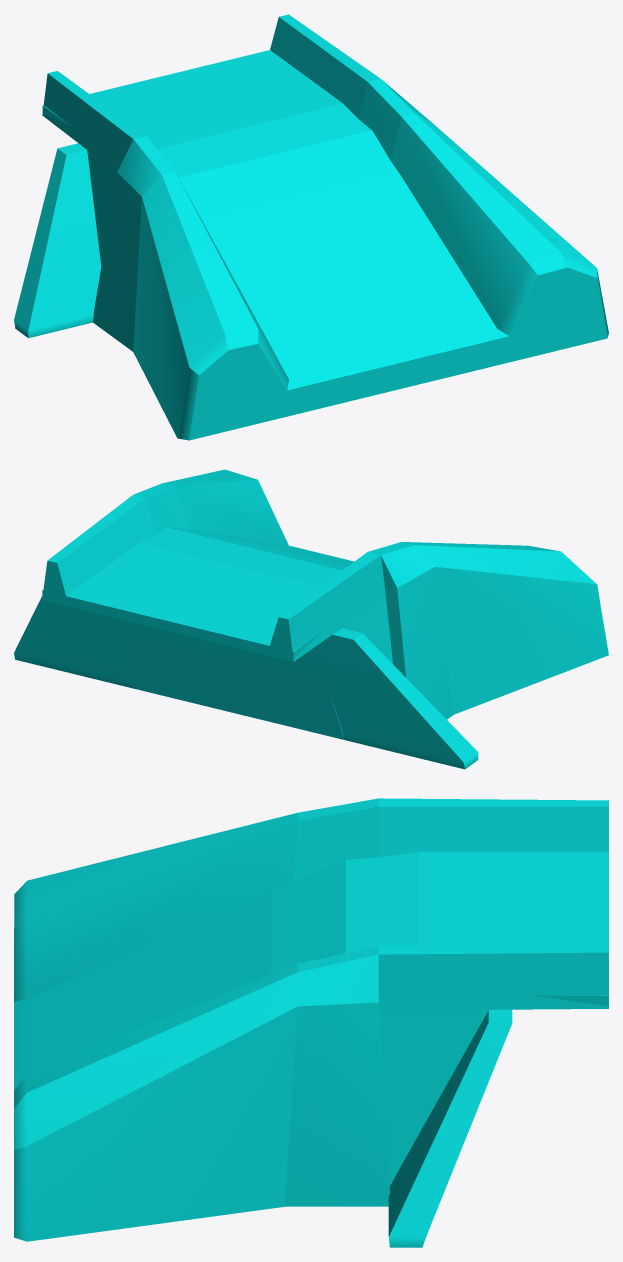
File: SM_Env_Road_Ramp_Structure_01_Collision.fbx
3 renders of one model, top to bottom at view 1: azimuth 30°, elevation 25°; view 2: azimuth 150°, elevation 25°; view 3: azimuth 270°, elevation 25°, orthographic. The views are drawn at different scales.
Parts seen in each view (by area): view 1: SM_Env_Road_Ramp_Structure_01_Collision; view 2: SM_Env_Road_Ramp_Structure_01_Collision; view 3: SM_Env_Road_Ramp_Structure_01_Collision.
Boxes of the visible parts, <box> form: SM_Env_Road_Ramp_Structure_01_Collision: <box>14,14,608,440</box>; SM_Env_Road_Ramp_Structure_01_Collision: <box>14,469,608,769</box>; SM_Env_Road_Ramp_Structure_01_Collision: <box>14,798,608,1247</box>.
Bounding box in the file's own units: 2455 × 924 × 2175.
